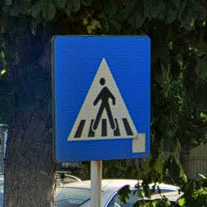oprirea_interzisa: (46, 30, 155, 165)
